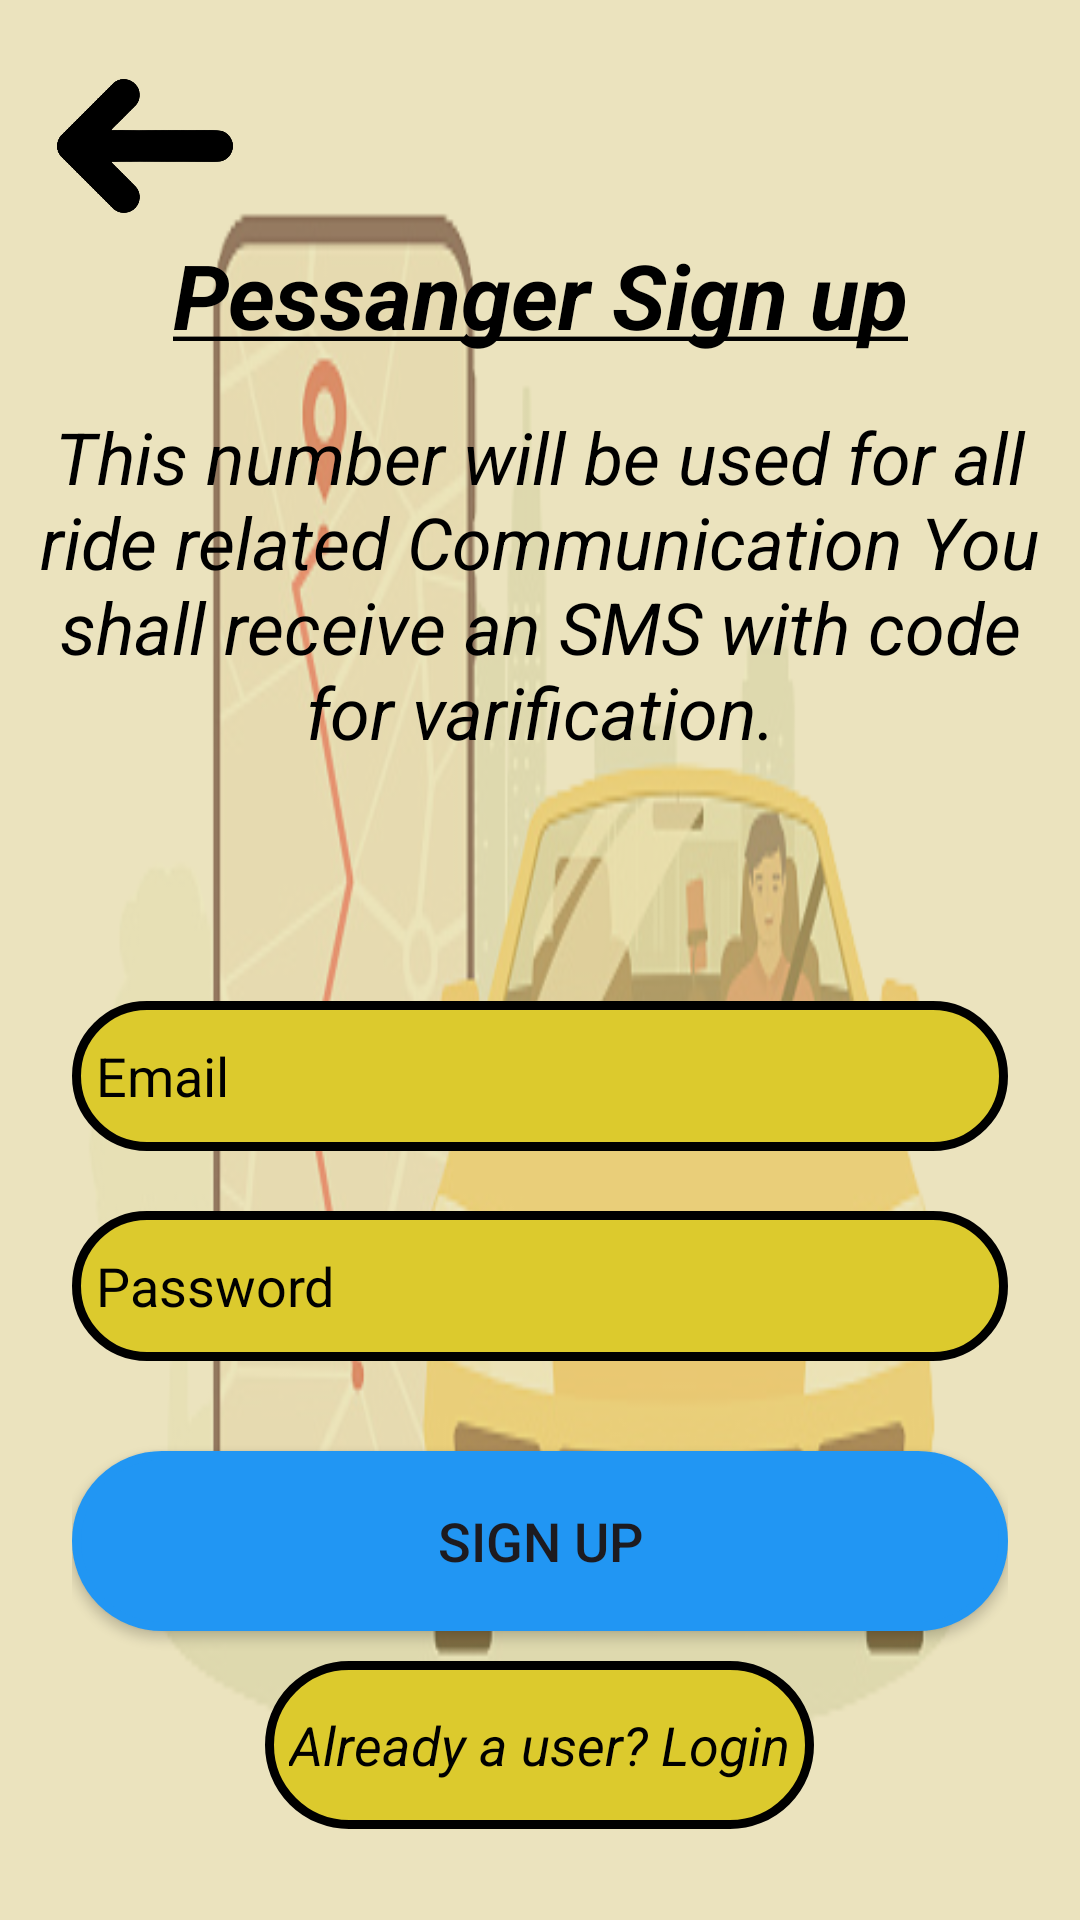

Icons on this 1080*1920 Android screen, each with its box as (x1, y1, x2, y2):
returnback: (57, 79, 233, 213)
